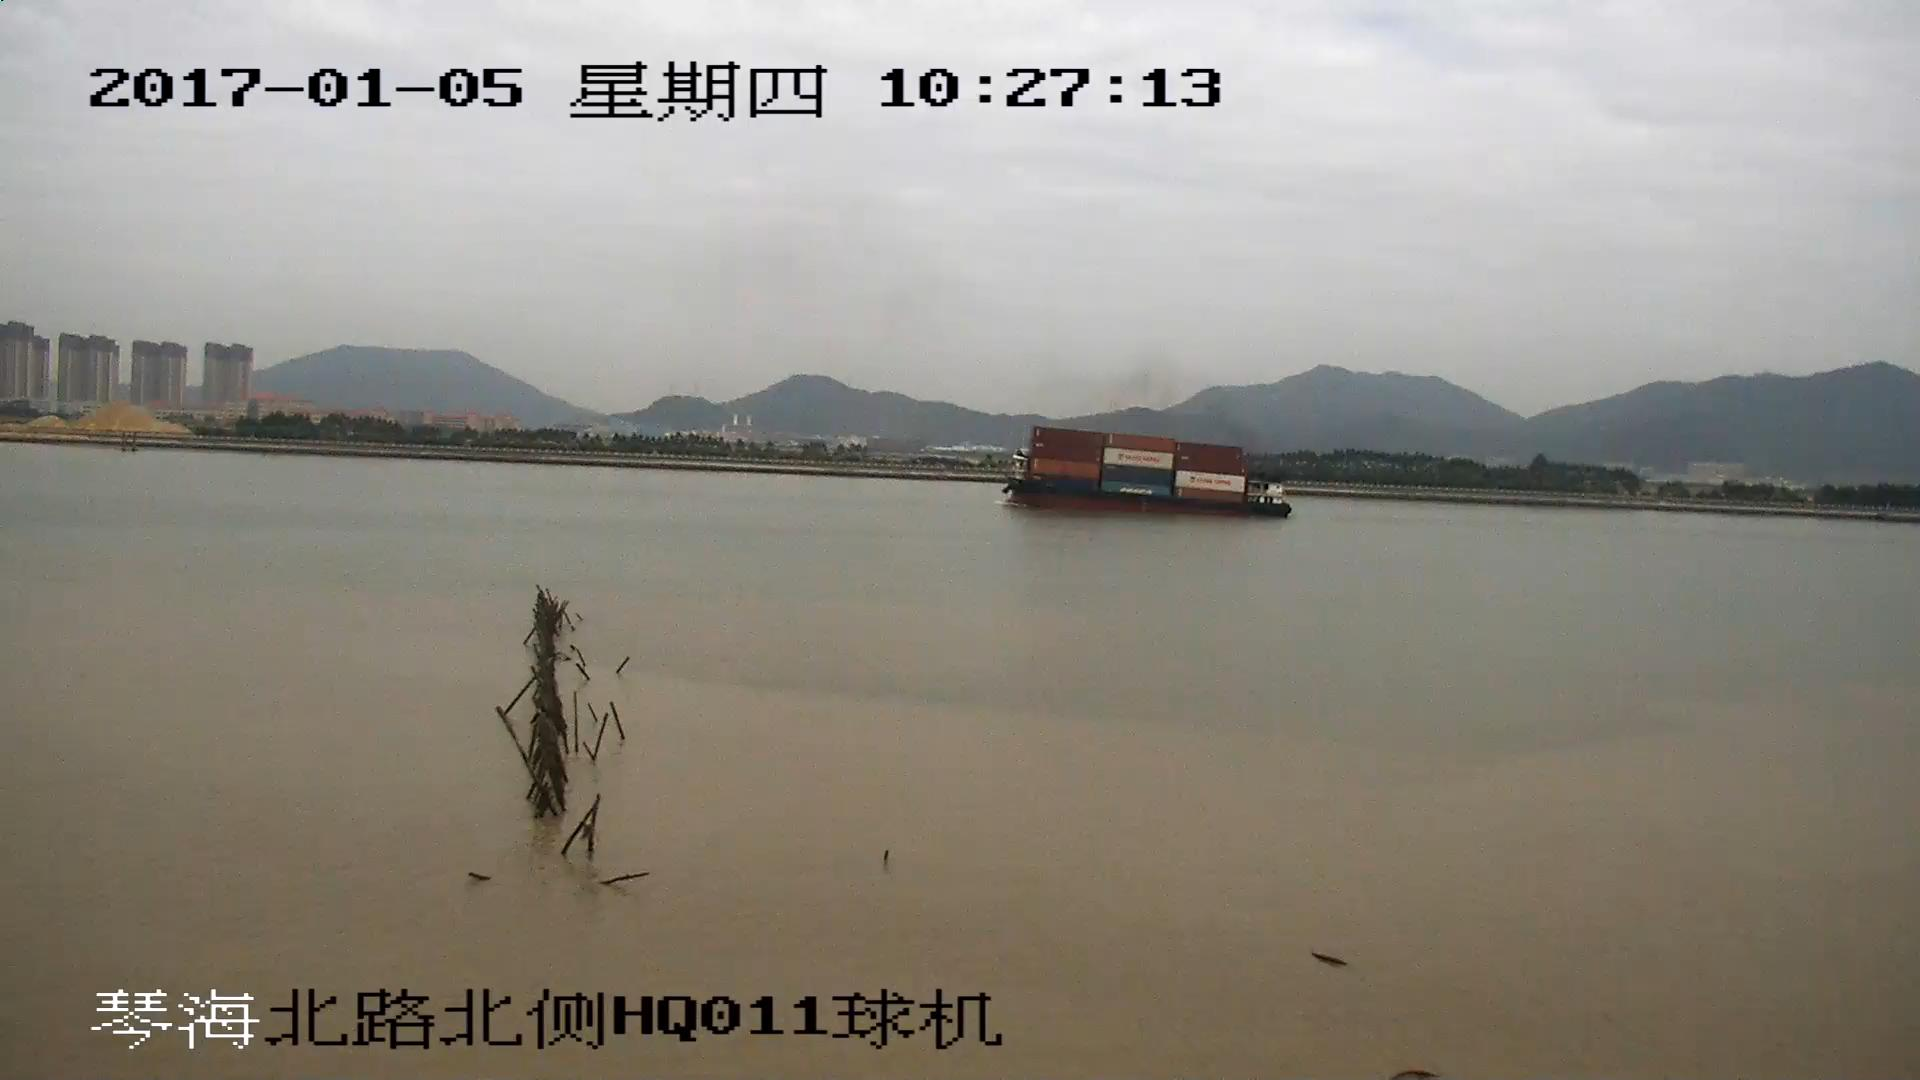container ship: (1001, 432, 1293, 516)
